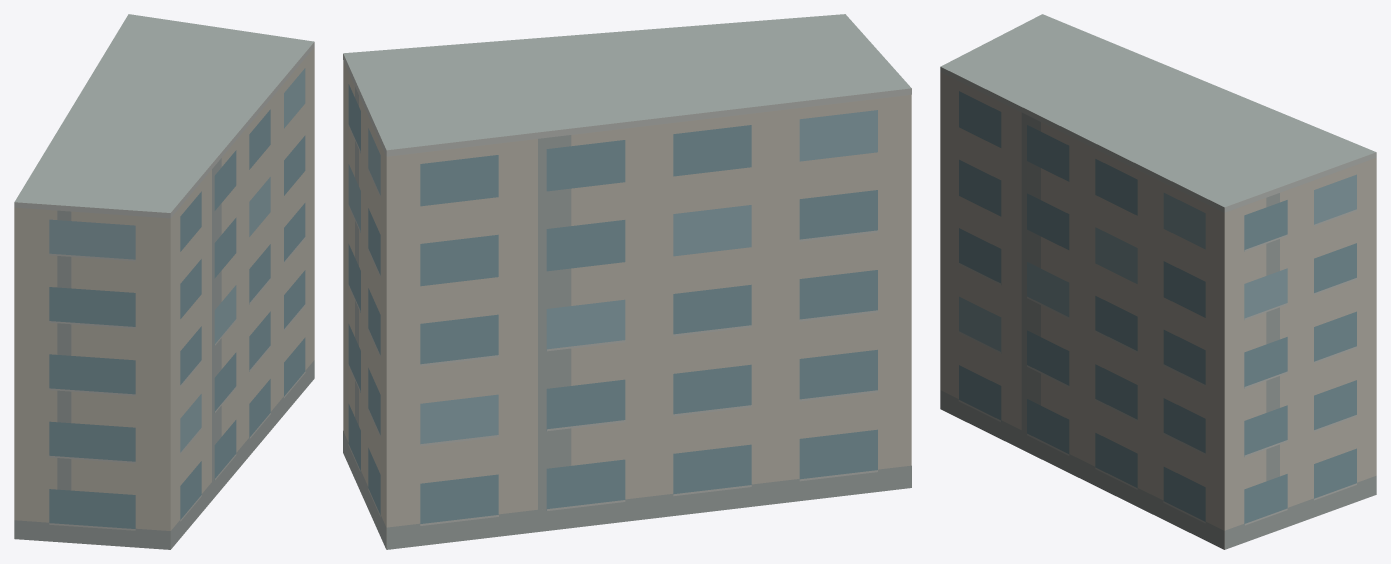
The model's file is residential-19fb6956-b9a2-48ef-a493-75ac5fc9784f.glb.
3 renders of one model, left to right at view 1: azimuth 30°, elevation 25°; view 2: azimuth 150°, elevation 25°; view 3: azimuth 270°, elevation 25°, orthographic. The views are drawn at different scales.
Visible parts, largest first — view 1: residential-19fb6956-b9a2-48ef-a493-75ac5fc9784f.tmp; view 2: residential-19fb6956-b9a2-48ef-a493-75ac5fc9784f.tmp; view 3: residential-19fb6956-b9a2-48ef-a493-75ac5fc9784f.tmp.
Part boxes in pixels (box(x1,y1,x2,y2)): residential-19fb6956-b9a2-48ef-a493-75ac5fc9784f.tmp: box(14, 14, 314, 549); residential-19fb6956-b9a2-48ef-a493-75ac5fc9784f.tmp: box(343, 14, 911, 549); residential-19fb6956-b9a2-48ef-a493-75ac5fc9784f.tmp: box(940, 14, 1376, 549).
Size of the model in its own units: 18.48 by 15.25 by 17.61.
